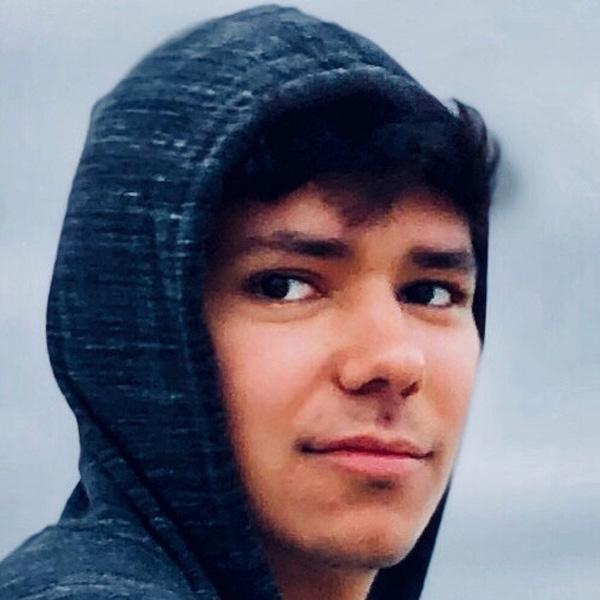Eyes: (231, 256, 330, 316), (391, 268, 469, 321)
